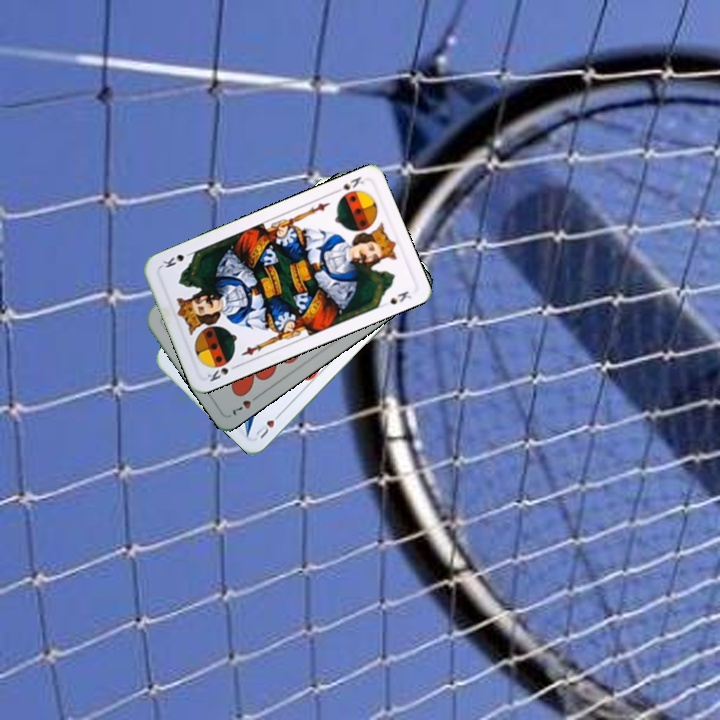H7: (228, 390, 263, 418)
HU: (251, 408, 285, 441)
SK: (203, 360, 242, 384), (329, 172, 366, 196)
